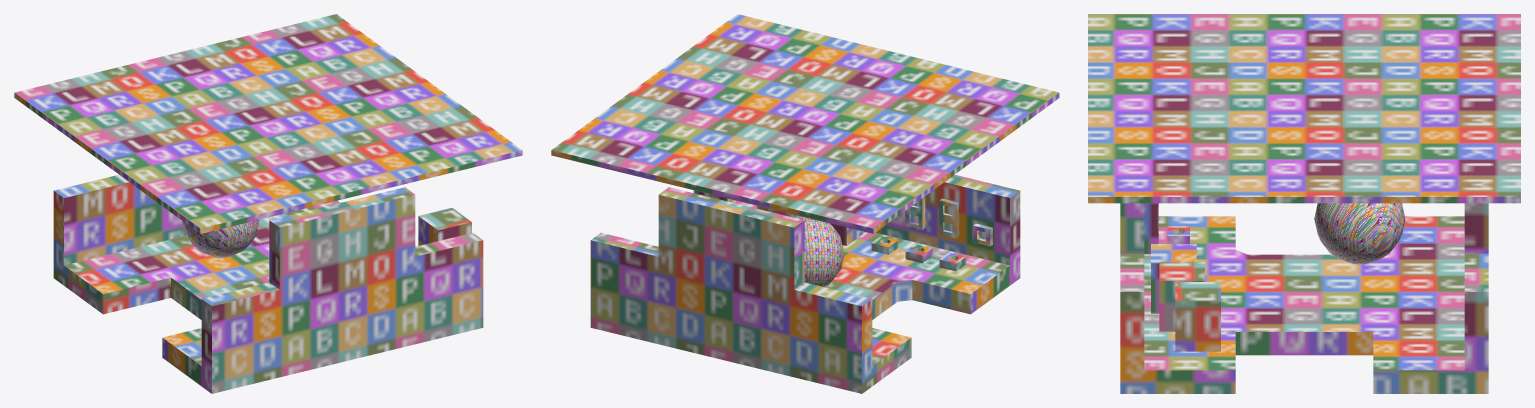
3 renders of one model, left to right at view 1: azimuth 30°, elevation 25°; view 2: azimuth 150°, elevation 25°; view 3: azimuth 270°, elevation 25°, orthographic. The views are drawn at different scales.
Visible parts, largest first — view 1: blank_sep13, blank_sep9; view 2: blank_sep13, blank_sep9; view 3: blank_sep13, blank_sep9.
Part boxes in pixels (x1,y1,x2,y2): blank_sep13: (14, 14, 522, 393); blank_sep9: (182, 220, 259, 257); blank_sep13: (551, 14, 1059, 393); blank_sep9: (793, 215, 844, 286); blank_sep13: (1088, 14, 1520, 393); blank_sep9: (1314, 203, 1405, 264).
Bounding box in the file's own units: 9.49 × 5.12 × 9.49.
Materials: 2 (2 with a texture image).
